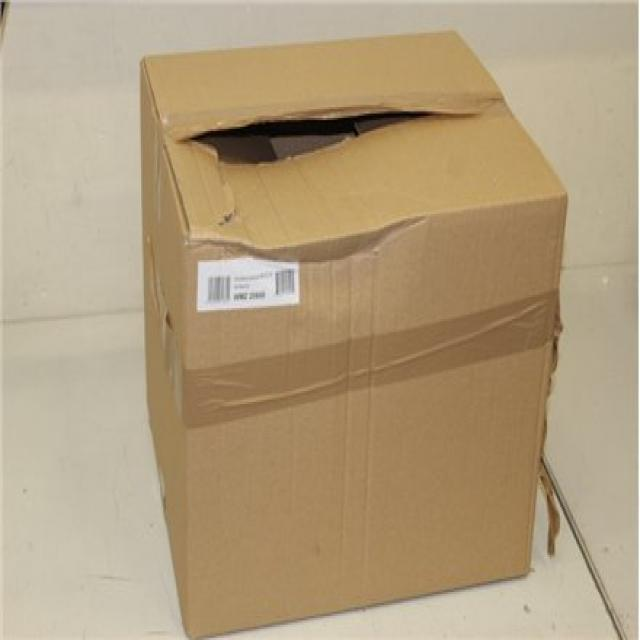hole: (171, 106, 487, 171)
